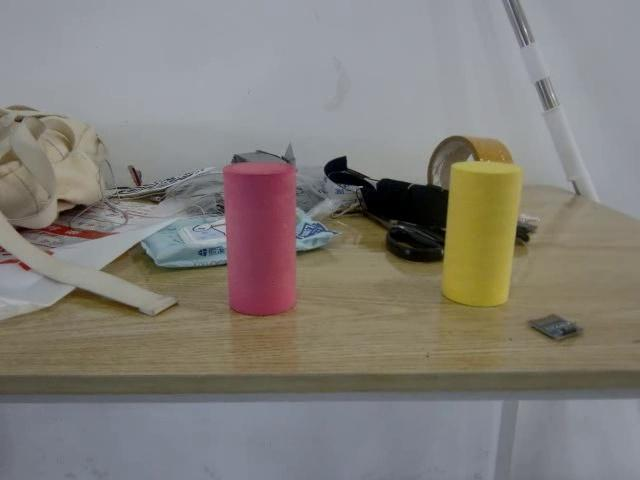red_cylinder: (222, 160, 296, 318)
yellow_cylinder: (444, 160, 521, 306)
